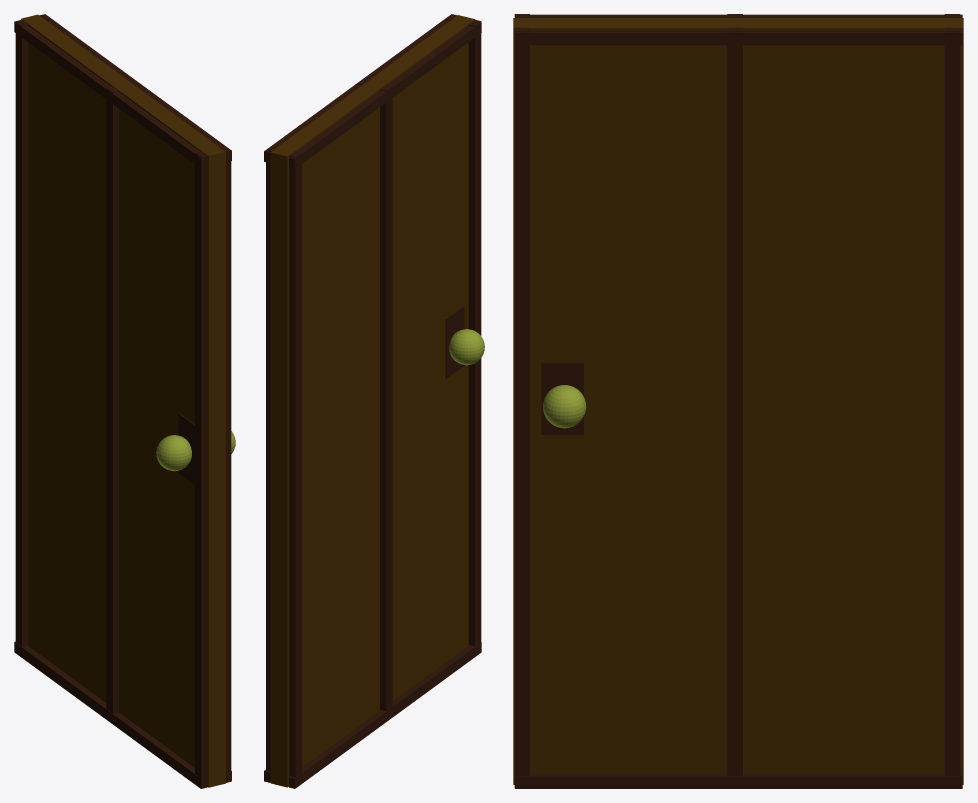
File: Door.glb
3 views of the same model, side by side, from view 1: azimuth 30°, elevation 25°; view 2: azimuth 150°, elevation 25°; view 3: azimuth 270°, elevation 25° (orthographic). The views are drawn at different scales.
Visible parts, largest first — view 1: Cube, Cube.011, Sphere.001, Cube.008; view 2: Cube, Cube.011, Sphere.001, Cube.008; view 3: Cube, Cube.011, Cube.008, Sphere.001.
Part boxes in pixels (x1,y1,x2,y2): Cube: [21, 14, 225, 787]; Cube.011: [14, 14, 231, 788]; Sphere.001: [156, 431, 235, 471]; Cube.008: [178, 413, 194, 484]; Cube: [270, 15, 474, 787]; Cube.011: [264, 14, 481, 788]; Sphere.001: [449, 329, 484, 365]; Cube.008: [445, 306, 464, 378]; Cube: [513, 18, 963, 784]; Cube.011: [514, 14, 962, 788]; Cube.008: [541, 362, 583, 434]; Sphere.001: [543, 385, 586, 428].
Size of the model in its own units: 0.771 by 6.23 by 3.36.
